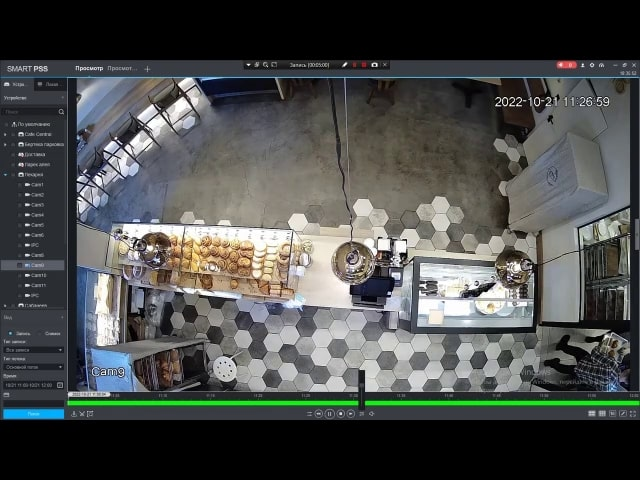barcounter: (85, 221, 538, 335)
